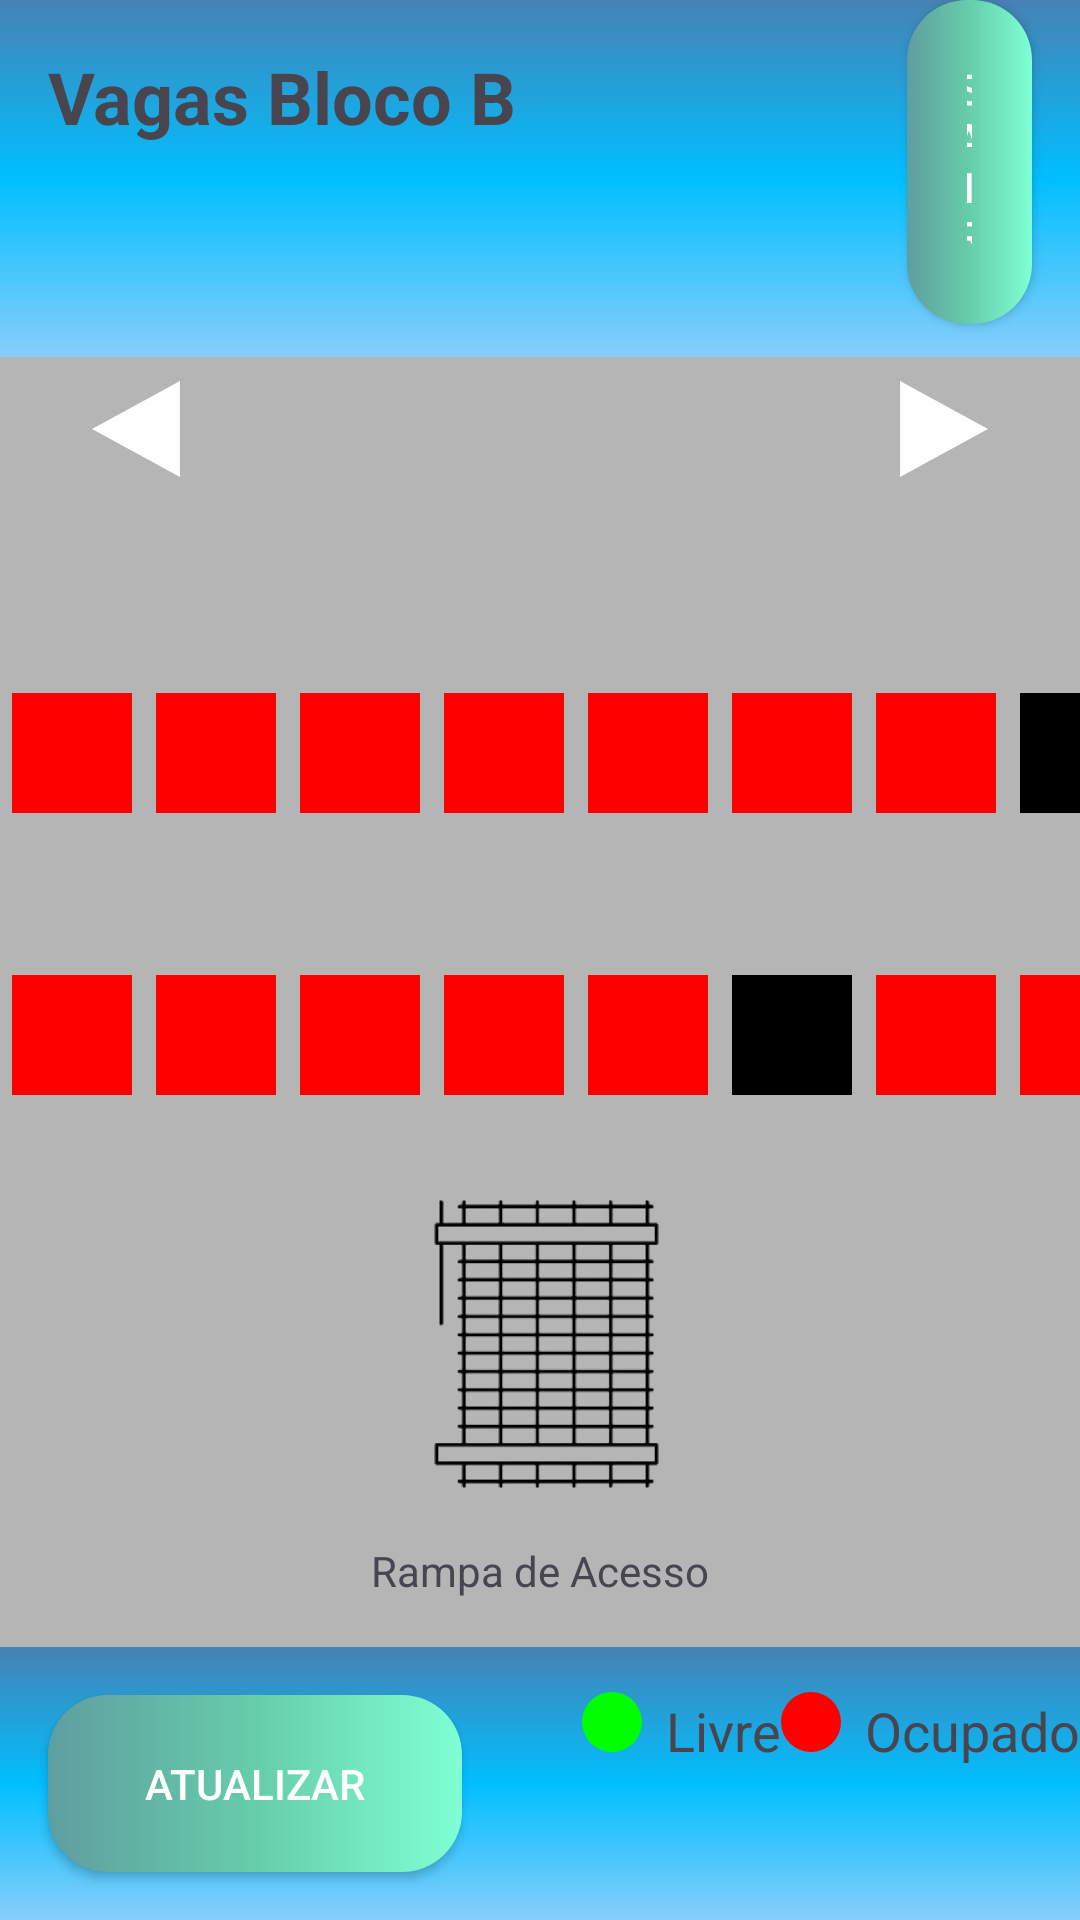

Locate icon controls on the screen. Image size 1080x1920, boxes as (x1, y1, x2, y2).
arrou left: (93, 381, 180, 477)
arrow right: (900, 381, 987, 477)
